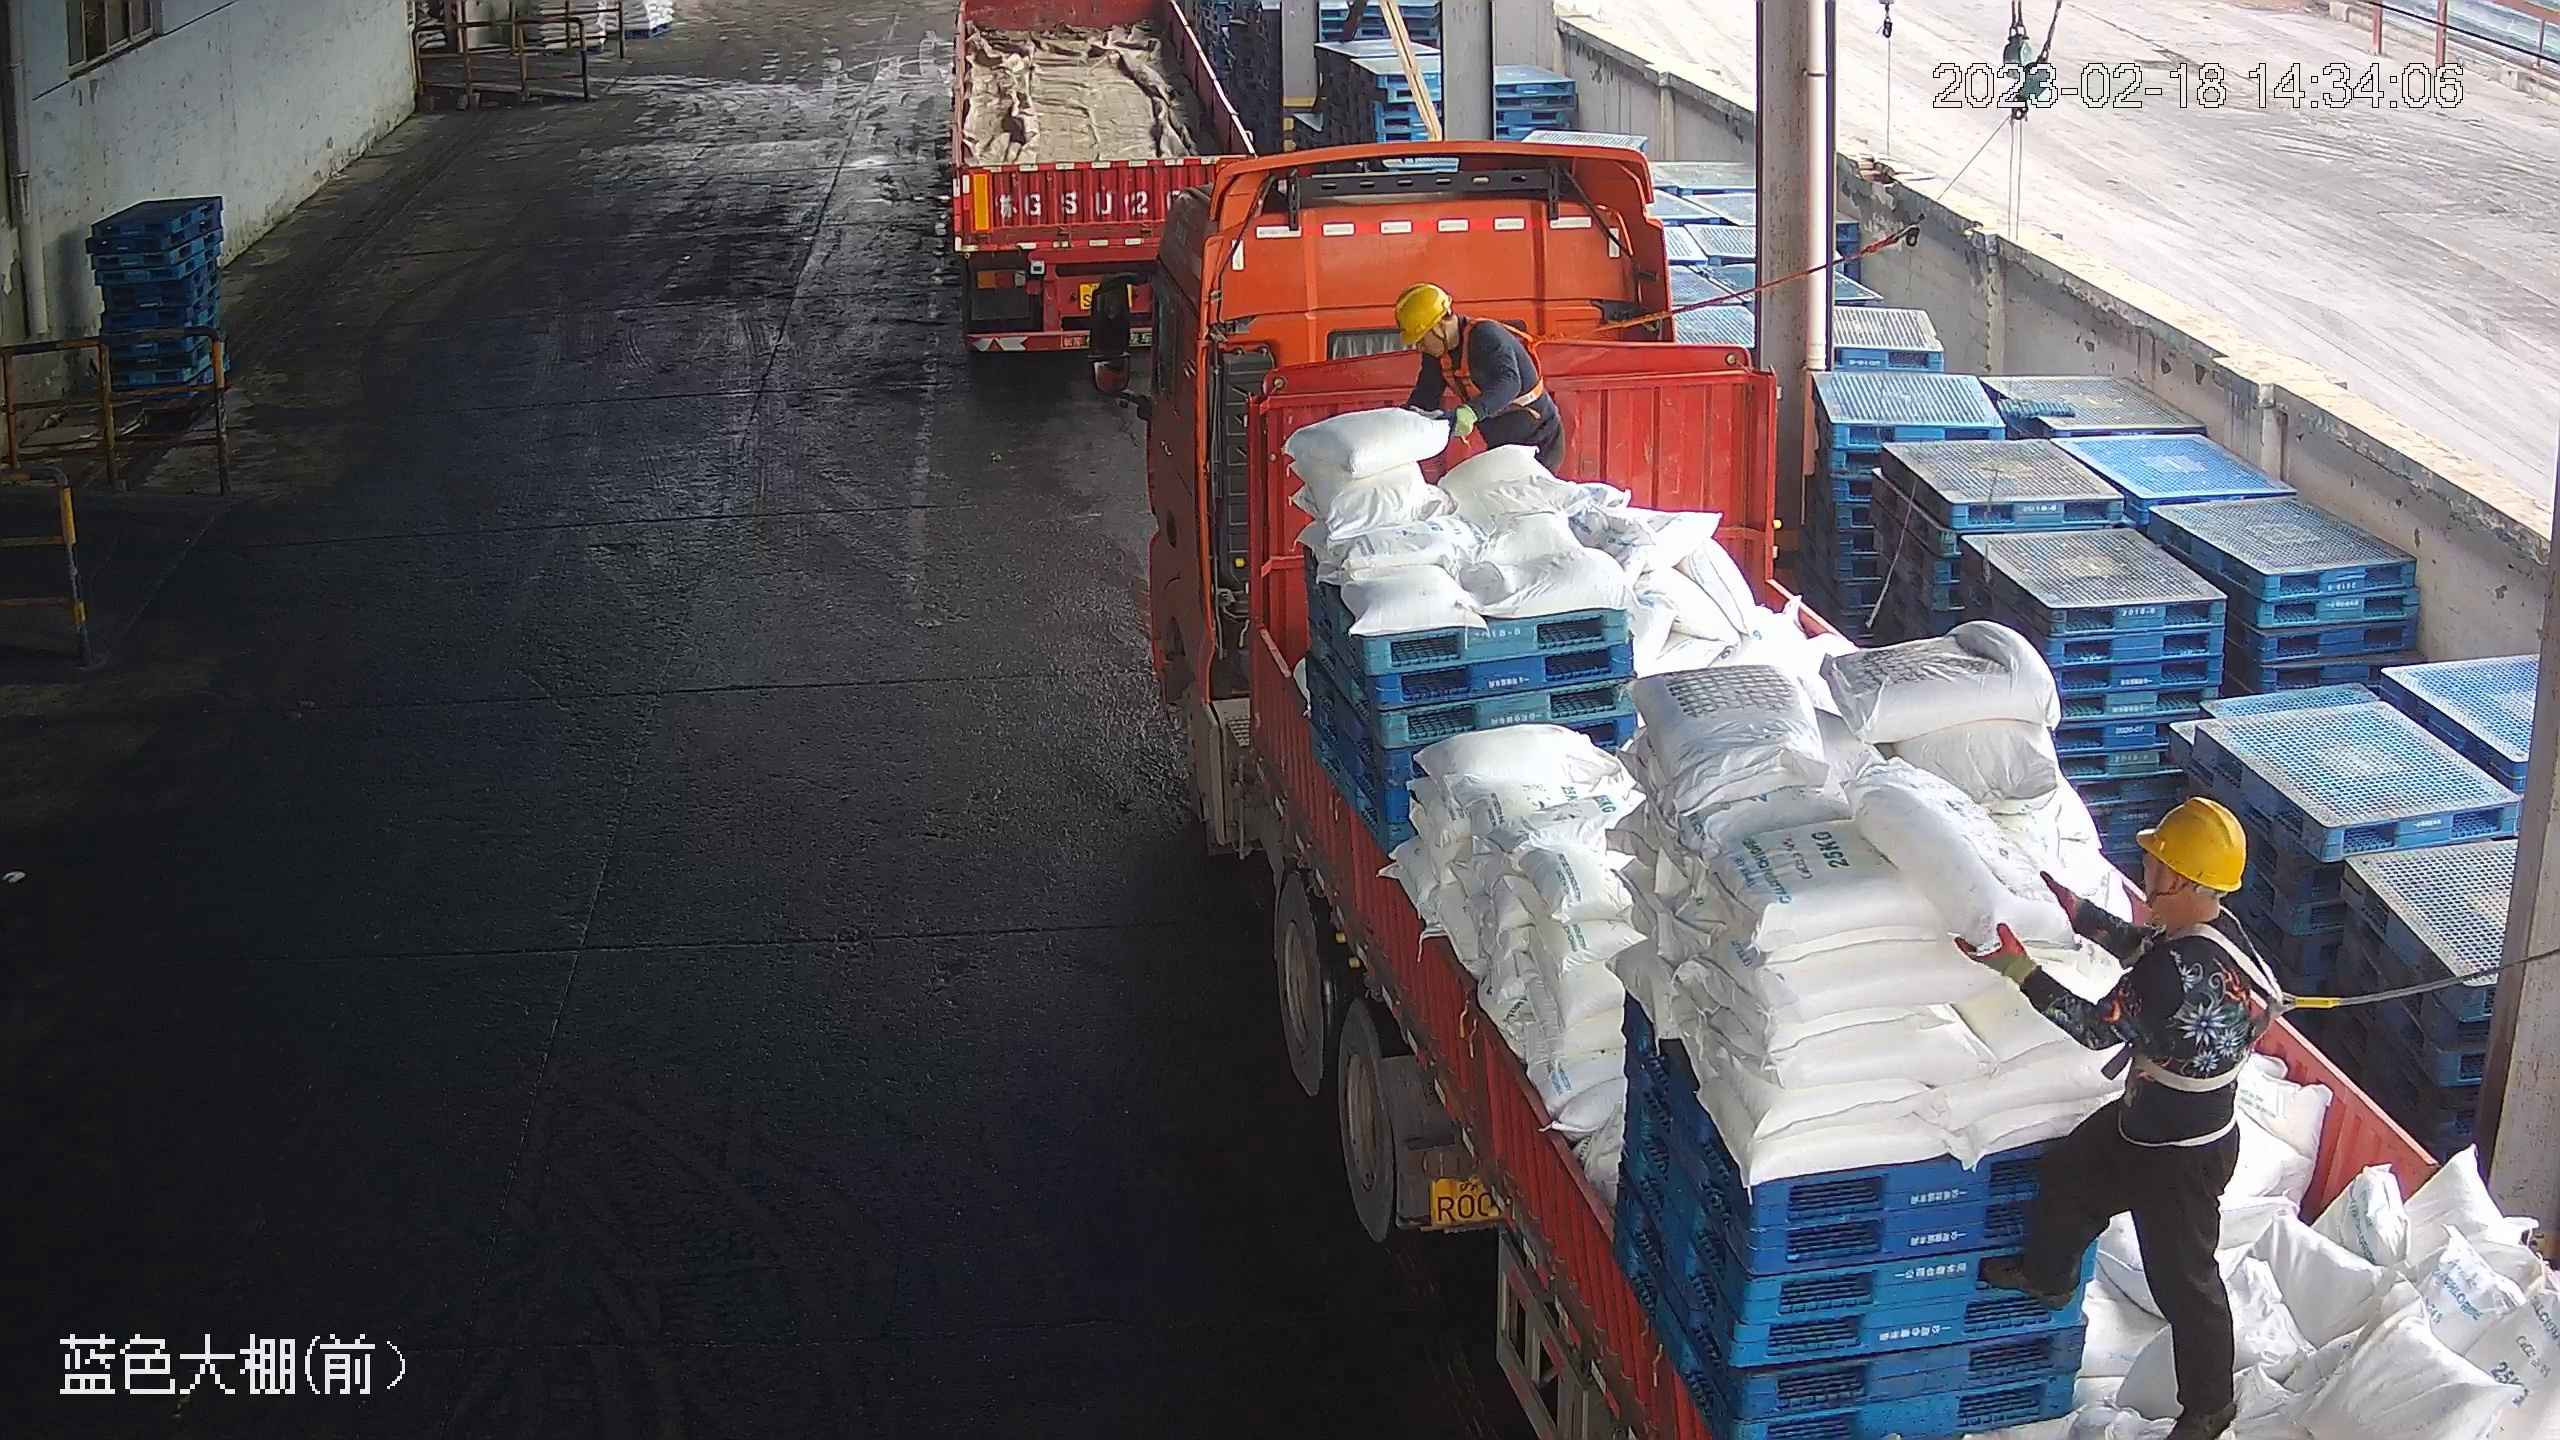belt: (2108, 918, 2317, 1091), (1439, 315, 1571, 411)
head: (2064, 793, 2293, 1035), (1395, 289, 1513, 401)
helmet: (2135, 794, 2252, 891), (1395, 283, 1451, 349)
people: (1947, 794, 2300, 1440), (1396, 284, 1569, 483)
truck: (1079, 135, 2560, 1440), (937, 6, 1269, 381)
